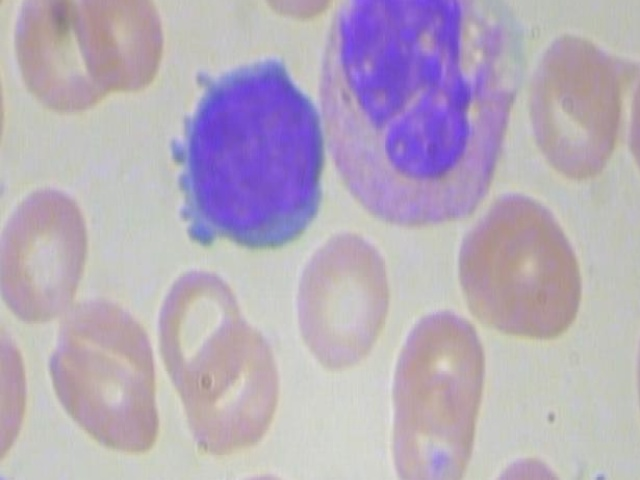Platelets: (0, 465, 21, 480)
RBC: (150, 243, 258, 402), (481, 187, 588, 347), (287, 225, 398, 379), (519, 28, 626, 187), (0, 172, 97, 324), (381, 302, 492, 430), (69, 0, 167, 102), (471, 436, 583, 480), (239, 0, 349, 27), (201, 468, 317, 480)
WBC: (311, 0, 539, 245), (169, 49, 331, 263)
